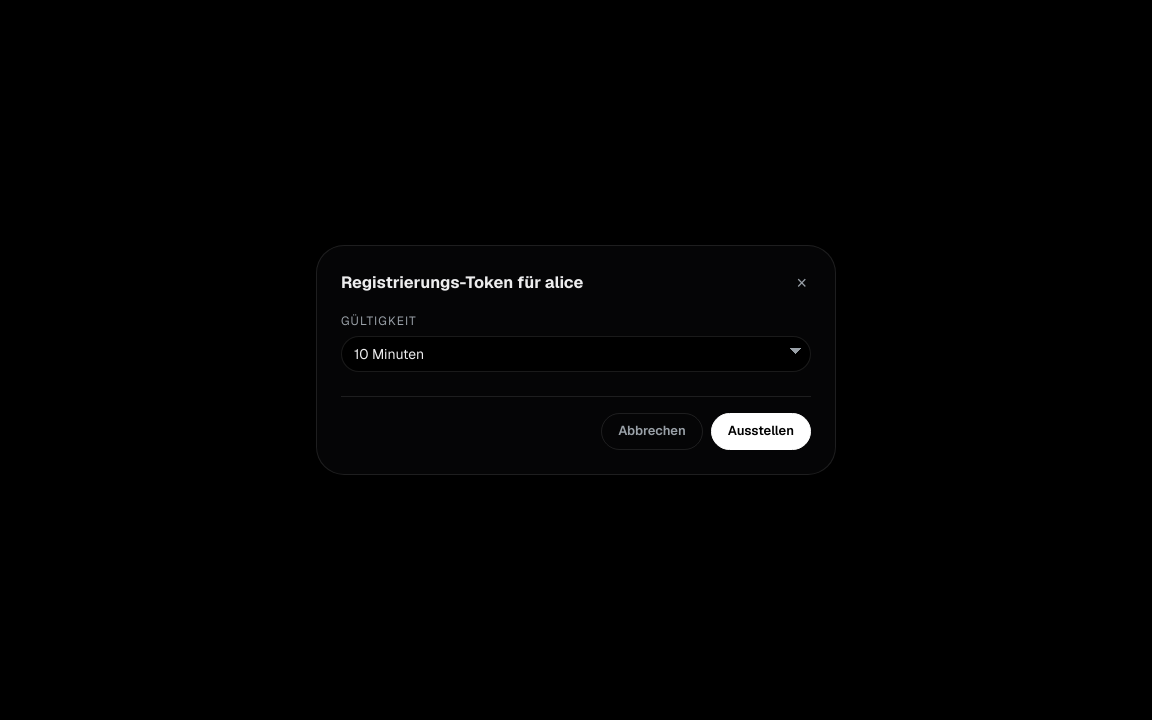
Test: EnrollTokenModal › shows an API error inside the dialog
Click the button "Ausstellen".
click(761, 432)  # box [711, 413, 811, 450]
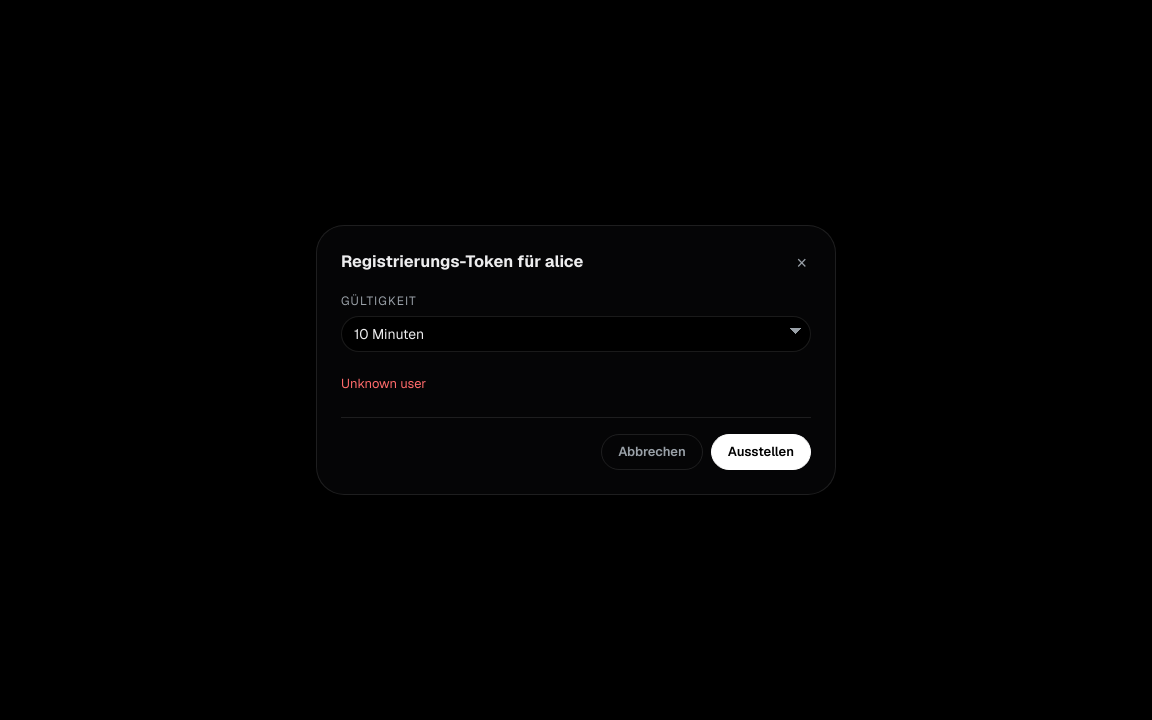
Expected: the message reads "Unknown user", [341, 375, 426, 392]
